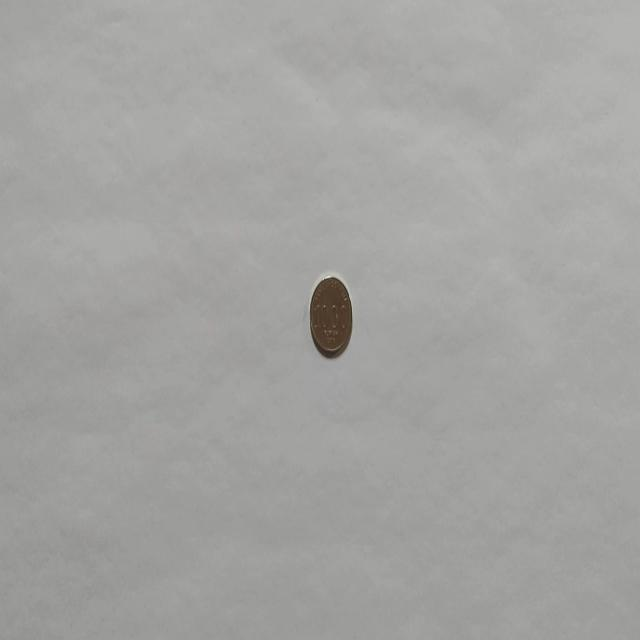seribu rupiah koin: (308, 272, 352, 358)
